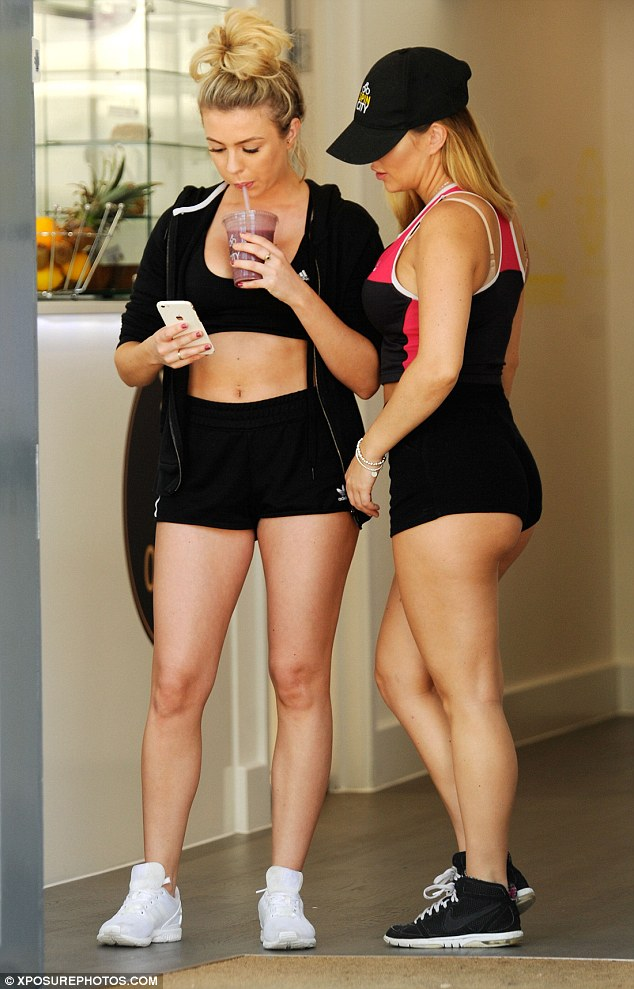Person: (75, 1, 373, 970), (325, 31, 559, 959)
